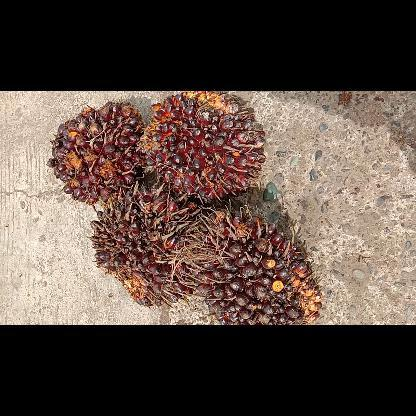Kurang masak: (192, 206, 328, 324), (136, 91, 270, 205), (88, 184, 209, 310), (45, 99, 151, 208)
